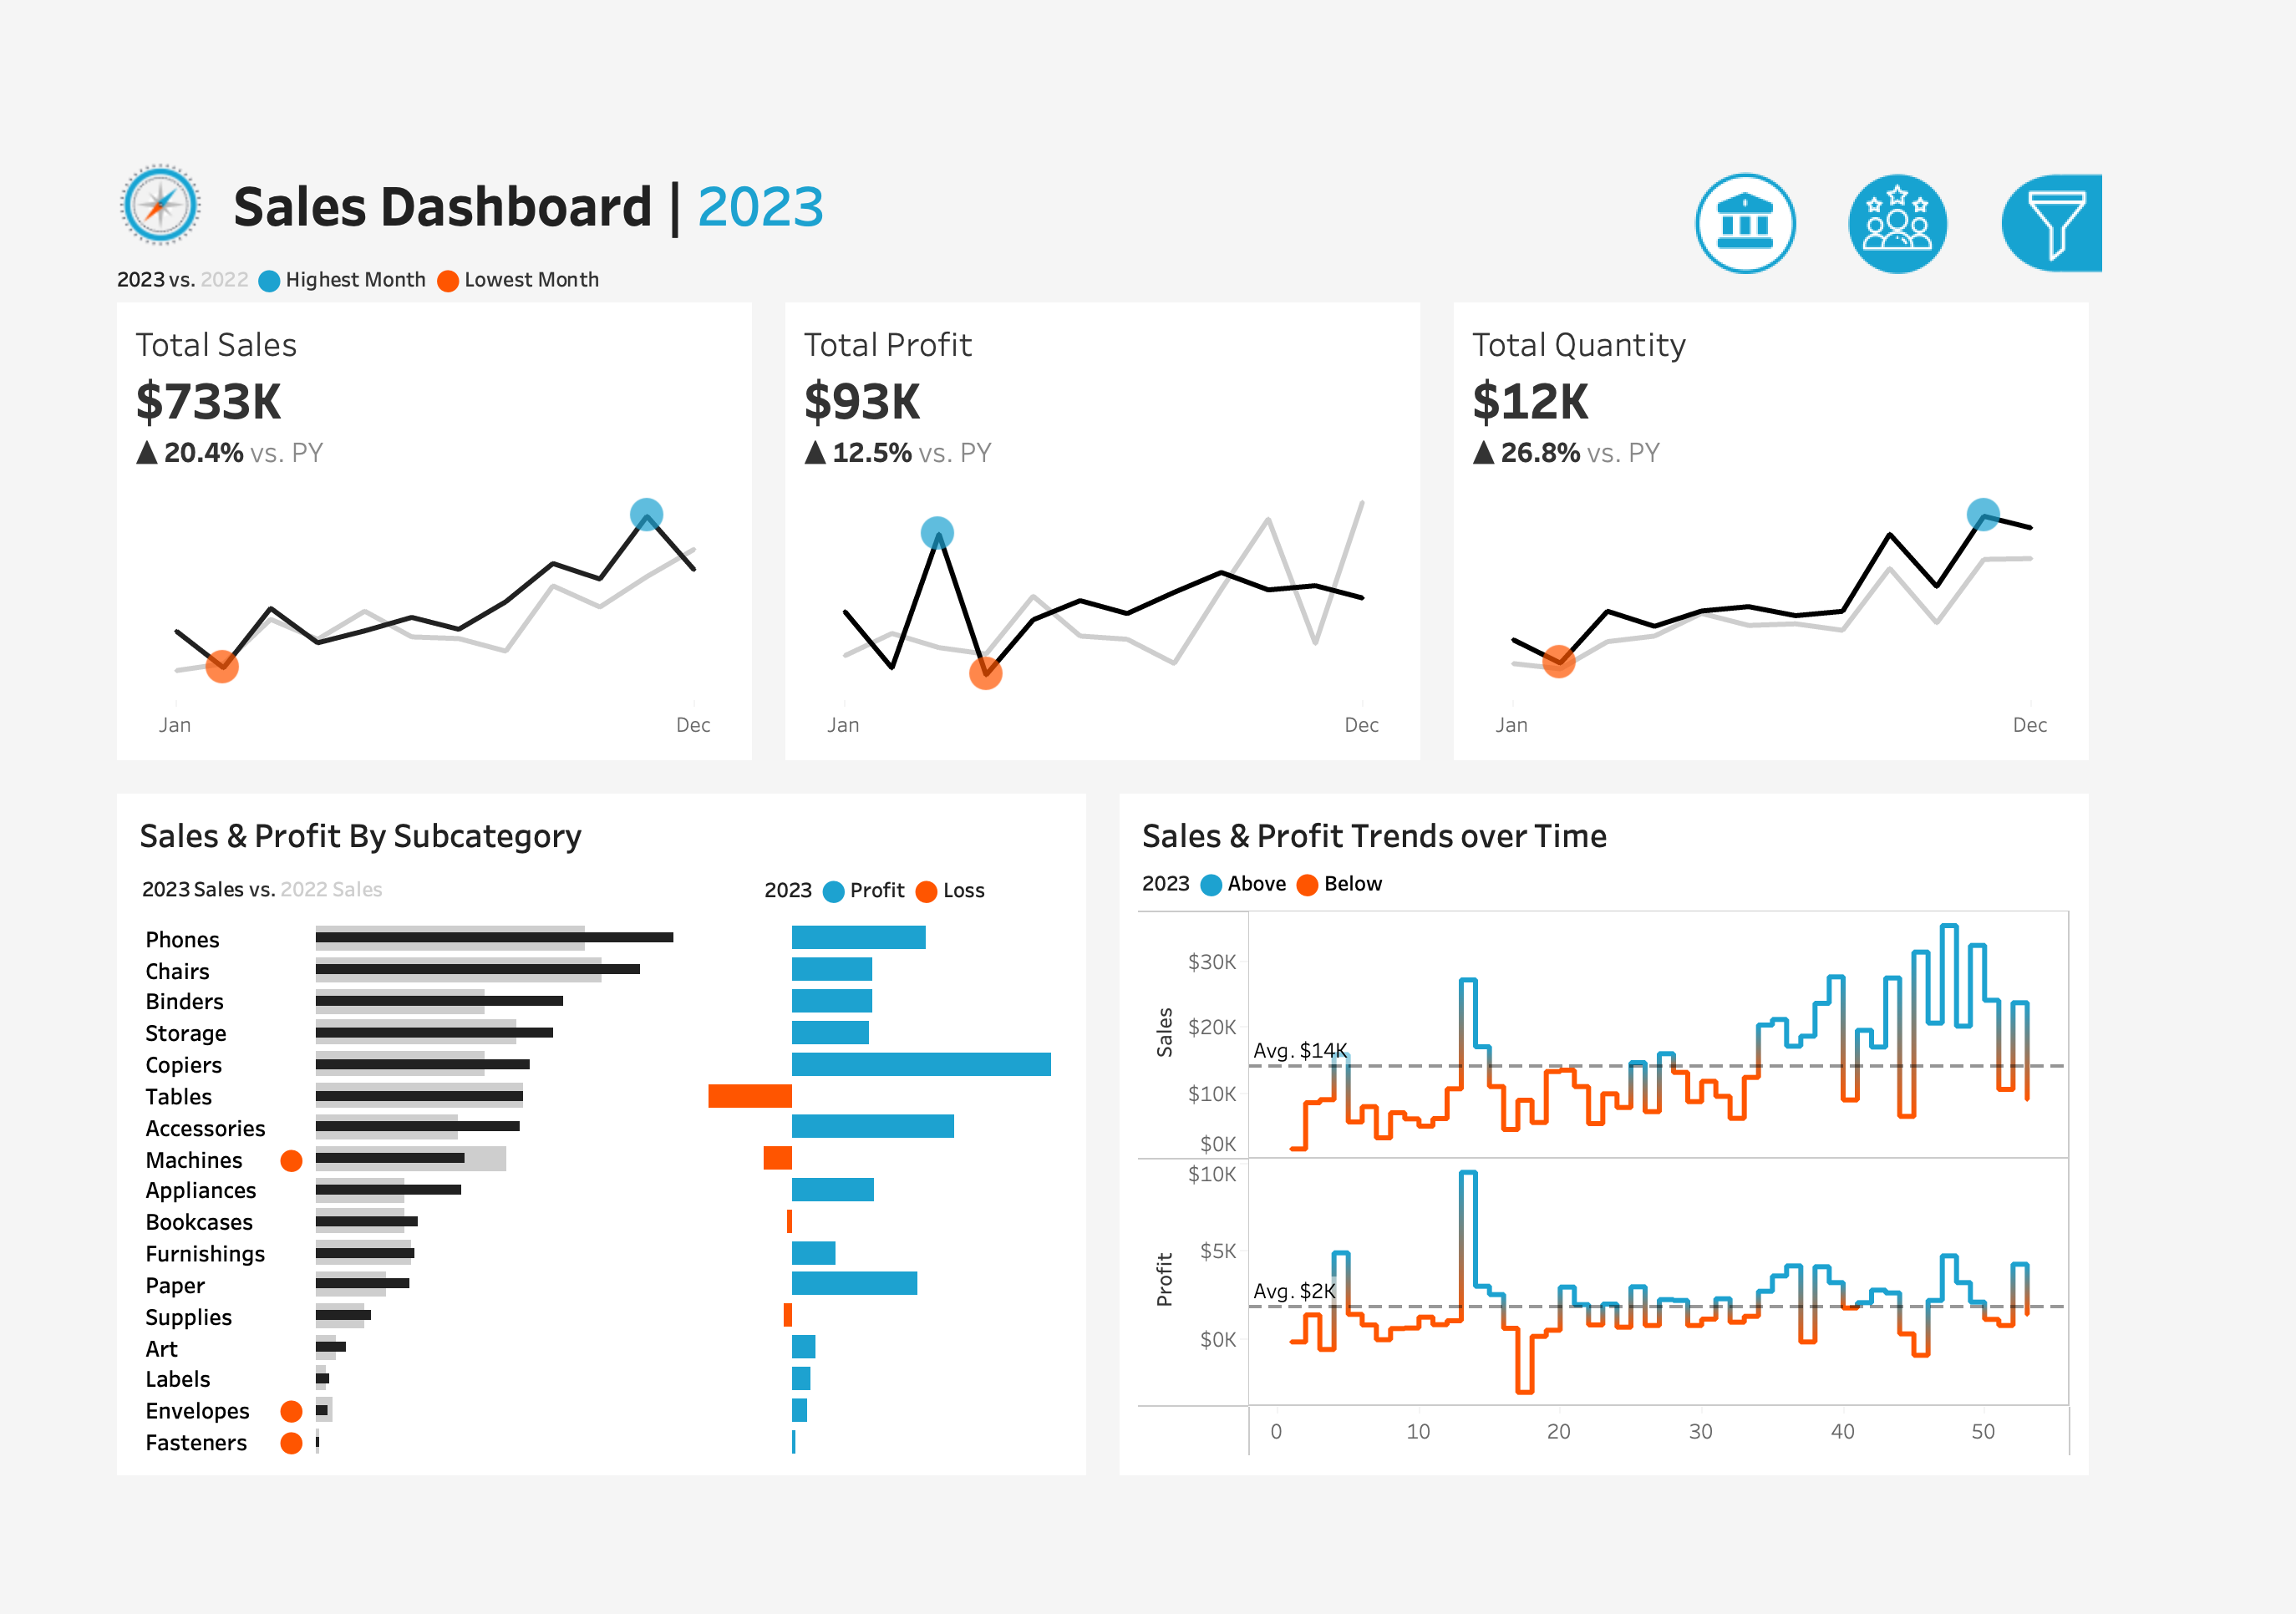

This screenshot's page, from the dashboard's own definition file:
{"tool":"tableau","page":{"name":"Sales Dashboard","canvas":[1200,800],"ordinal":1},"visuals":[{"type":"image","param":"Image/Icon - Logo.png","box":[0,0,73,59]},{"type":"text","box":[73,0,820,59]},{"type":"dashboard-object","box":[940,6,91,70]},{"type":"dashboard-object","box":[1031,6,91,70]},{"type":"blank","box":[952,10,237,86]},{"type":"worksheet","title":"Legend KPI","mark":"Automatic","box":[0,59,1200,29]},{"type":"worksheet","title":"KPI Sales","mark":"Automatic","rows":["Calculation_721701895347843083"],"cols":["Order Date"],"box":[0,88,400,284]},{"type":"worksheet","title":"KPI Profit","mark":"Automatic","rows":["Min/Max Sales (copy)_237846410425847814"],"cols":["Order Date"],"box":[400,88,400,284]},{"type":"worksheet","title":"KPI Quantity","mark":"Automatic","rows":["Min/Max Sales (copy) (copy)_237846410425856007"],"cols":["Order Date"],"box":[800,88,400,284]},{"type":"text","box":[952,96,237,37]},{"type":"parameter","param":"[Parameters].[Parameter 1]","box":[952,133,237,55]},{"type":"text","box":[952,188,237,32]},{"type":"filter","title":"KPI Sales","param":"[federated.1kpxa041aiai2y1cl4pui1t4eju9].[none:Category:nk]","box":[952,220,237,57]},{"type":"filter","title":"KPI Sales","param":"[federated.1kpxa041aiai2y1cl4pui1t4eju9].[none:Sub-Category:nk]","box":[952,277,237,57]},{"type":"blank","box":[952,334,237,60]},{"type":"text","box":[17,389,566,34]},{"type":"text","box":[617,389,566,34]},{"type":"text","box":[952,394,237,32]},{"type":"worksheet","title":"Legend Subcategory","mark":"Automatic","box":[17,423,374,32]},{"type":"text","box":[391,423,192,32]},{"type":"text","box":[617,423,566,25]},{"type":"filter","title":"KPI Sales","param":"[federated.1kpxa041aiai2y1cl4pui1t4eju9].[none:Region:nk]","box":[952,426,237,57]},{"type":"worksheet","title":"Weekly Trends","mark":"Automatic","rows":["Calculation_721701895334993921","CY Sales (copy)_237846410424180736"],"cols":["Order Date"],"box":[617,448,566,335]},{"type":"worksheet","title":"Subcategory Comparison","mark":"Bar","rows":["Sub-Category","Calculation_2435040078806671369"],"cols":["CY Sales (copy)_721701895335804930","Calculation_721701895334993921","CY Sales (copy)_237846410424180736"],"box":[17,455,566,327.9]},{"type":"filter","title":"KPI Sales","param":"[federated.1kpxa041aiai2y1cl4pui1t4eju9].[none:State:nk]","box":[952,483,237,57]},{"type":"filter","title":"KPI Sales","param":"[federated.1kpxa041aiai2y1cl4pui1t4eju9].[none:City:nk]","box":[952,540,237,57]}]}

Visuals, with their boxes on the page's 1200x800 design canvas (x1, y1, x2, y2). These are canvas units, not pixel positions in the 2296x1614 screenshot, which may show the page scaled, cropped or inside an application window:
image: (x1=0, y1=0, x2=73, y2=59)
text: (x1=73, y1=0, x2=893, y2=59)
dashboard-object: (x1=940, y1=6, x2=1031, y2=76)
dashboard-object: (x1=1031, y1=6, x2=1122, y2=76)
blank: (x1=952, y1=10, x2=1189, y2=96)
"Legend KPI" worksheet: (x1=0, y1=59, x2=1200, y2=88)
"KPI Sales" worksheet: (x1=0, y1=88, x2=400, y2=372)
"KPI Profit" worksheet: (x1=400, y1=88, x2=800, y2=372)
"KPI Quantity" worksheet: (x1=800, y1=88, x2=1200, y2=372)
text: (x1=952, y1=96, x2=1189, y2=133)
parameter: (x1=952, y1=133, x2=1189, y2=188)
text: (x1=952, y1=188, x2=1189, y2=220)
"KPI Sales" filter: (x1=952, y1=220, x2=1189, y2=277)
"KPI Sales" filter: (x1=952, y1=277, x2=1189, y2=334)
blank: (x1=952, y1=334, x2=1189, y2=394)
text: (x1=17, y1=389, x2=583, y2=423)
text: (x1=617, y1=389, x2=1183, y2=423)
text: (x1=952, y1=394, x2=1189, y2=426)
"Legend Subcategory" worksheet: (x1=17, y1=423, x2=391, y2=455)
text: (x1=391, y1=423, x2=583, y2=455)
text: (x1=617, y1=423, x2=1183, y2=448)
"KPI Sales" filter: (x1=952, y1=426, x2=1189, y2=483)
"Weekly Trends" worksheet: (x1=617, y1=448, x2=1183, y2=783)
"Subcategory Comparison" worksheet (Bar marks): (x1=17, y1=455, x2=583, y2=783)
"KPI Sales" filter: (x1=952, y1=483, x2=1189, y2=540)
"KPI Sales" filter: (x1=952, y1=540, x2=1189, y2=597)
